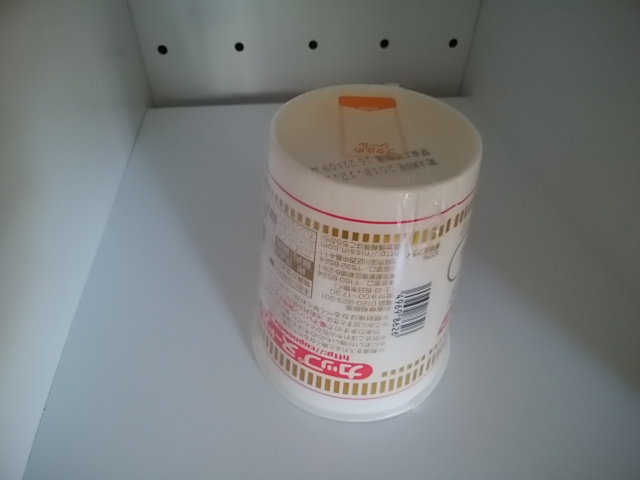cup-ramen: (247, 79, 486, 424)
